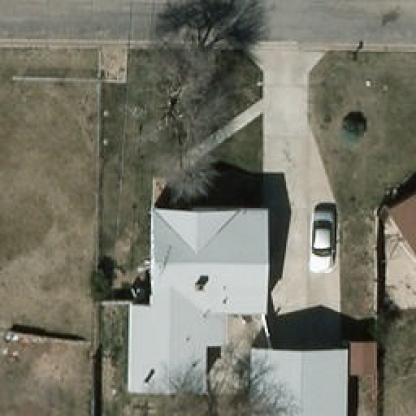car: (306, 203, 340, 276)
